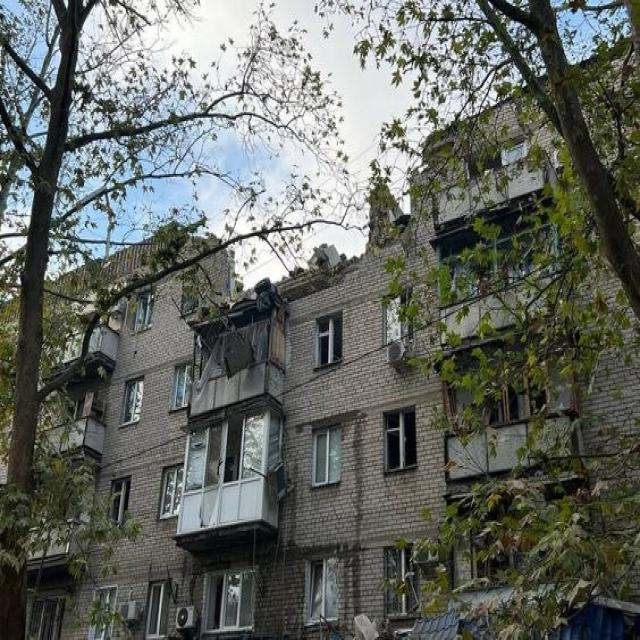broken_window: (201, 567, 255, 634), (303, 554, 339, 626), (382, 404, 416, 474), (311, 422, 341, 487), (313, 309, 343, 369), (158, 461, 184, 519), (118, 375, 144, 427), (169, 360, 192, 412), (108, 474, 130, 526)
building: (2, 44, 638, 638)
